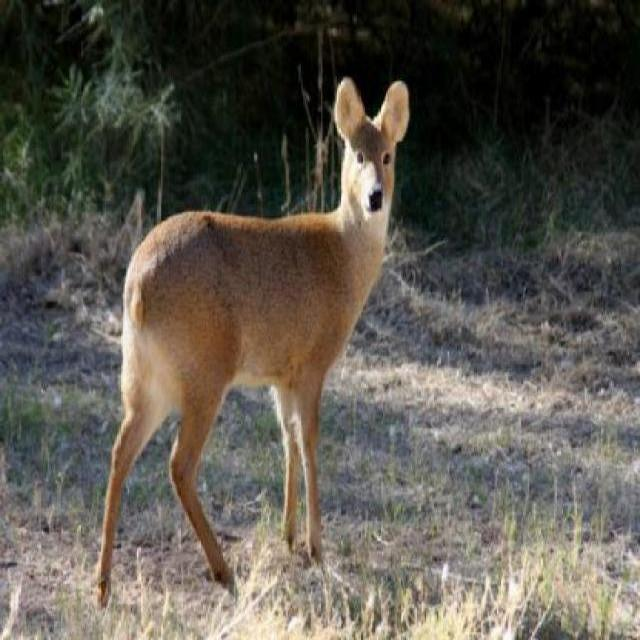deer: (82, 72, 418, 617)
